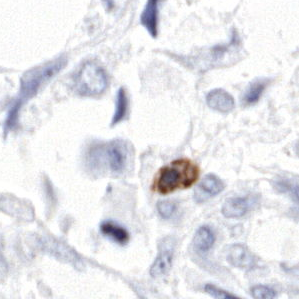Lymphocyte: (153, 155, 197, 193)
